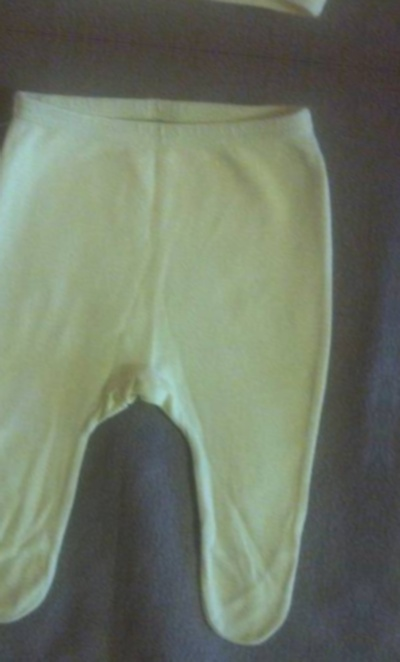Pants: (0, 68, 363, 662), (1, 0, 400, 28)
